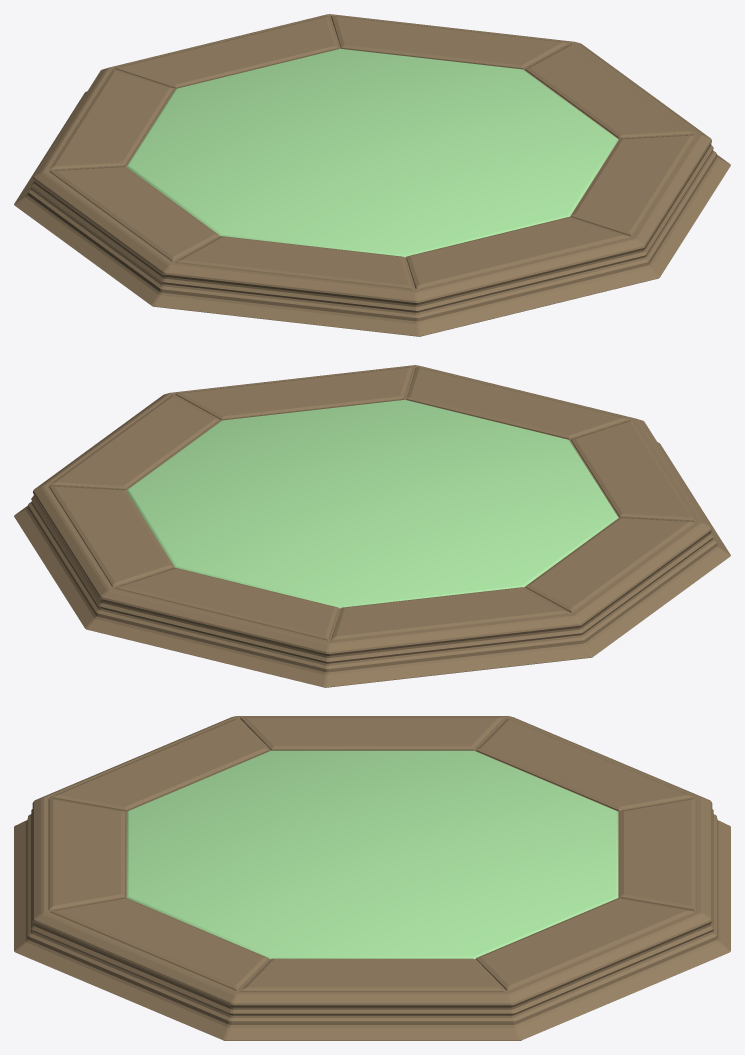
Rendered from SM_OctagonTable_basic.fbx.
3 renders of one model, top to bottom at view 1: azimuth 30°, elevation 25°; view 2: azimuth 150°, elevation 25°; view 3: azimuth 270°, elevation 25°, orthographic. The views are drawn at different scales.
Visible parts, largest first — view 1: BaseTable; view 2: BaseTable; view 3: BaseTable.
Boxes of the visible parts, box(x1,y1,x2,y2) form: BaseTable: box(14, 14, 730, 336); BaseTable: box(14, 365, 730, 687); BaseTable: box(14, 716, 730, 1040).
Size of the model in its own units: 225 by 12.91 by 225.
